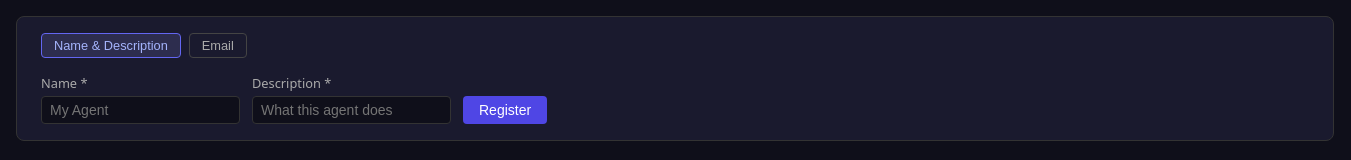
Test: RegisterPanel › switches to email mode when email tab clicked
Click the button with test id "mode-email": (218,46) [189,33,247,58]
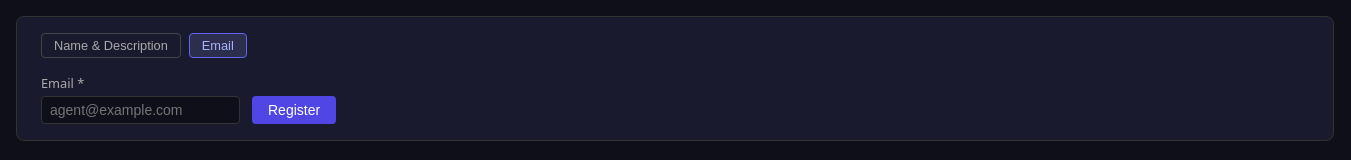
Now the field with test id "input-email" is shown, box [41,96,240,124]
